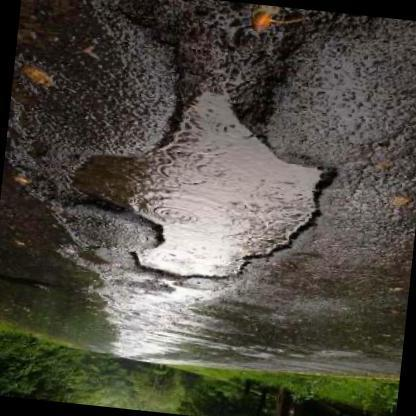pothole: (58, 92, 342, 282), (109, 0, 370, 144)
